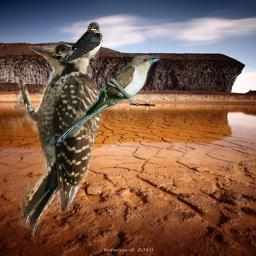Cuckoo: (53, 54, 163, 147)
Swallow: (52, 22, 103, 63)
Woodpecker: (12, 37, 103, 240)
